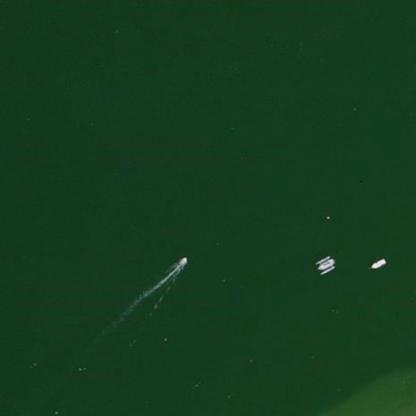ship: (308, 250, 341, 280), (170, 247, 194, 274), (365, 252, 390, 275)
